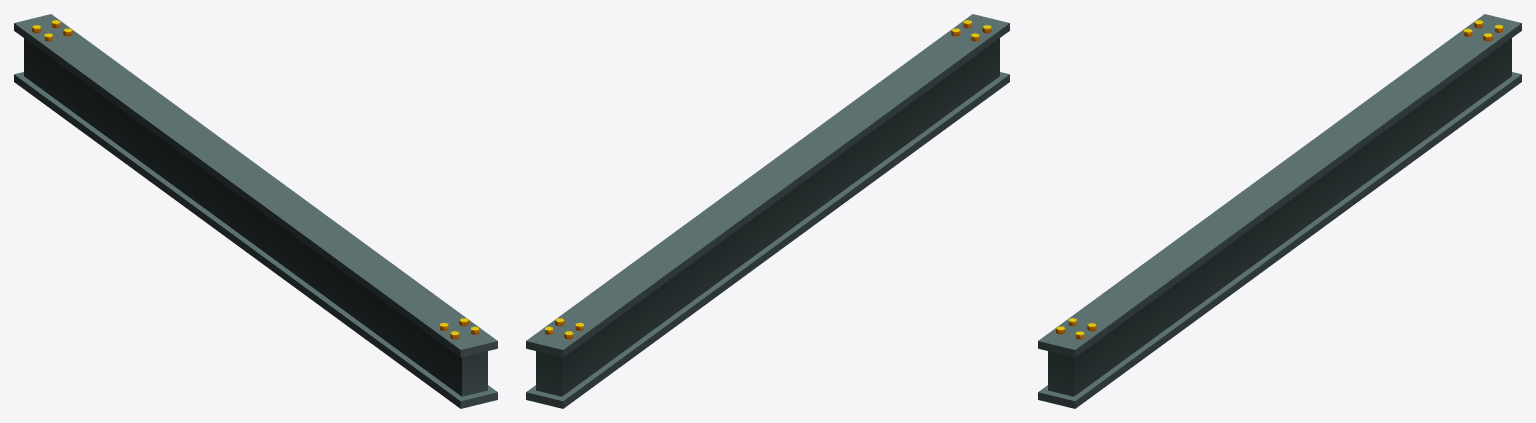
The model's file is Metal_Girder_1A.fbx.
The picture shows the model from 3 angles, left to right: view 1: azimuth 30°, elevation 25°; view 2: azimuth 150°, elevation 25°; view 3: azimuth 330°, elevation 25°; orthographic projection.
Visible parts, largest first — view 1: Metal_Girder_1A; view 2: Metal_Girder_1A; view 3: Metal_Girder_1A.
Part boxes in pixels (x1,y1,x2,y2): Metal_Girder_1A: [14, 14, 497, 408]; Metal_Girder_1A: [526, 14, 1009, 408]; Metal_Girder_1A: [1038, 14, 1521, 408].
Size of the model in its own units: 0.76 by 1.23 by 15.8.
